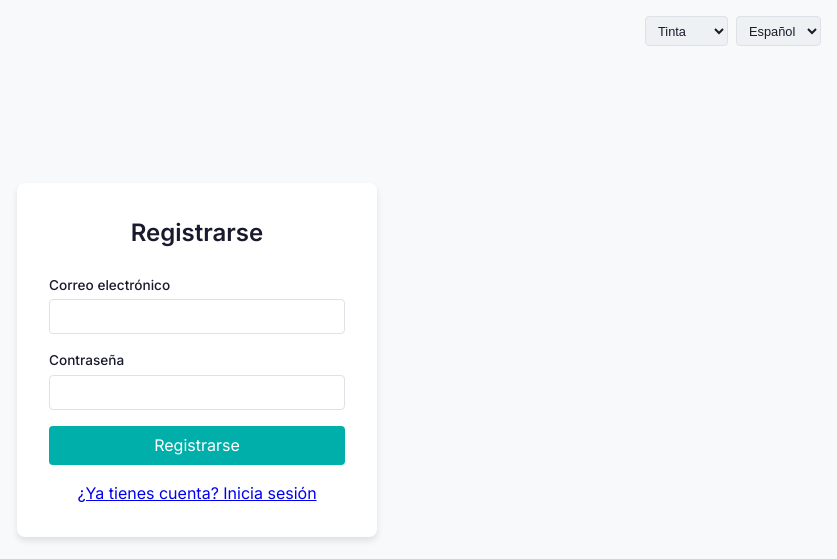
Scenario: RegisterPage › shows generic message on other errors
This screenshot has width=837, height=559.
In the field: (197, 317) [49,299,345,334], type "user@example.com"
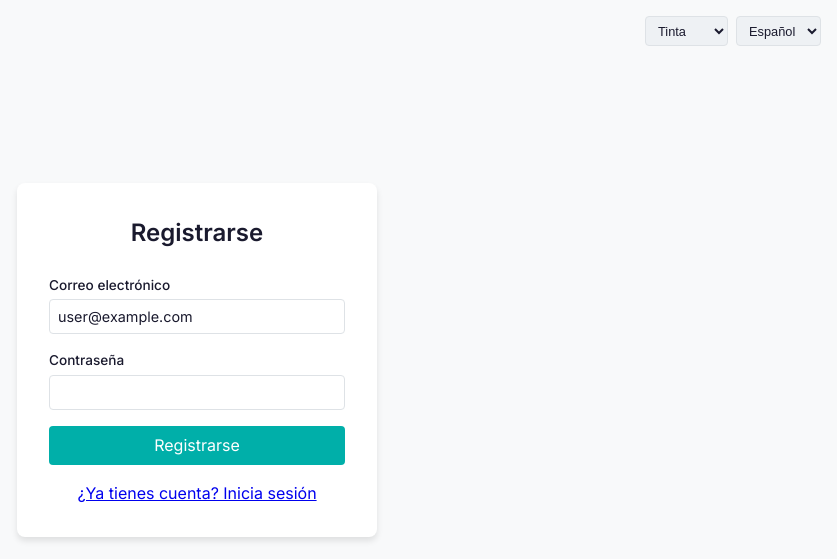
In the password field: (197, 392) [49,375,345,410], type "secret123"
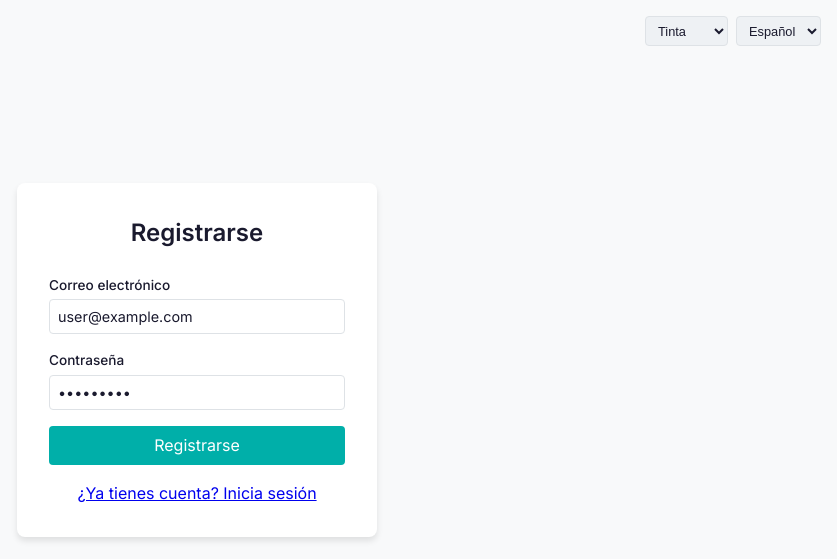
Click the button "Registrarse": (197, 445) [49,426,345,465]
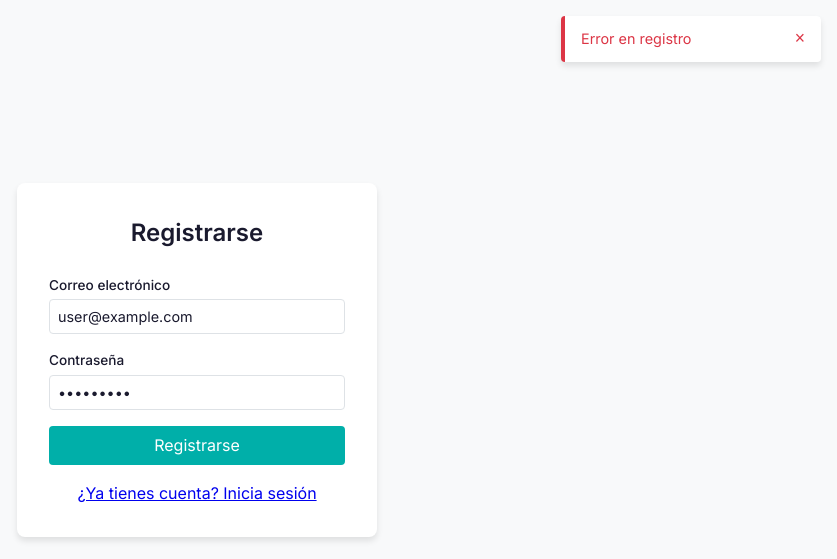
Now the text "Error en registro" is shown, box [581,30,692,47]
